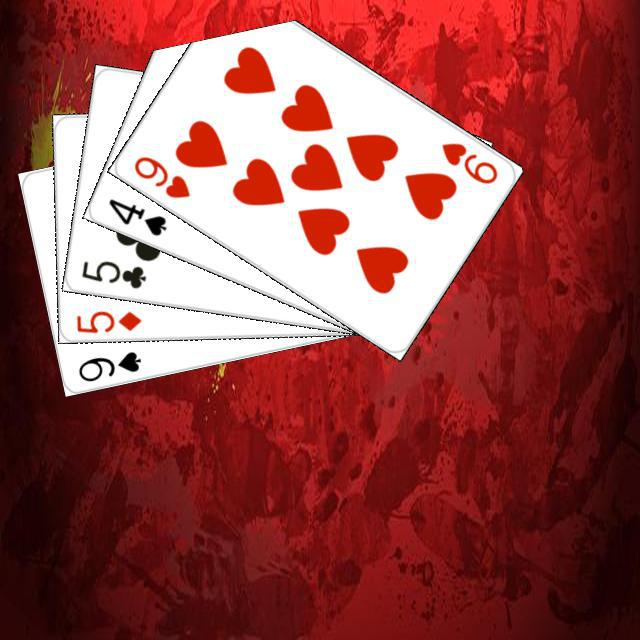4s: (103, 193, 169, 238)
5c: (76, 256, 148, 290)
5d: (71, 305, 143, 335)
9h: (128, 151, 192, 201), (436, 137, 500, 186)
9s: (73, 346, 143, 384)
